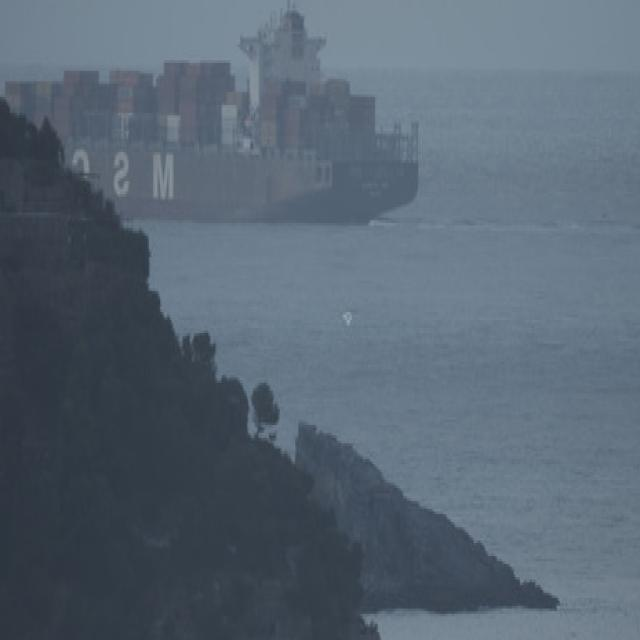cargoship: (4, 0, 424, 228)
